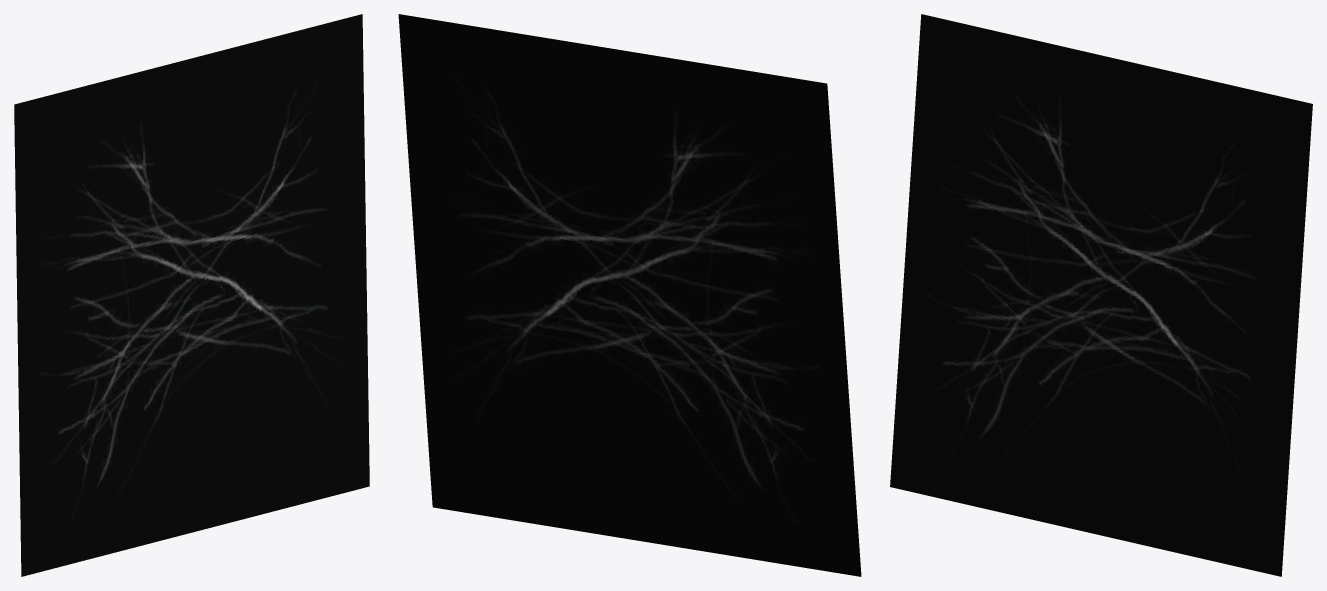
File: MIRKWOOD_WEB_DECOR11.fbx
3 views of the same model, side by side, from view 1: azimuth 30°, elevation 25°; view 2: azimuth 150°, elevation 25°; view 3: azimuth 330°, elevation 25° (orthographic). The views are drawn at different scales.
Parts seen in each view (by area): view 1: MIRKWOOD_WEB_DECOR11; view 2: MIRKWOOD_WEB_DECOR11; view 3: MIRKWOOD_WEB_DECOR11.
Part boxes in pixels (x1,y1,x2,y2): MIRKWOOD_WEB_DECOR11: [14, 14, 369, 576]; MIRKWOOD_WEB_DECOR11: [398, 14, 861, 576]; MIRKWOOD_WEB_DECOR11: [890, 14, 1312, 576].
Bounding box in the file's own units: 168593 × 199096 × 29261.
Materials: 1 (1 with a texture image).
